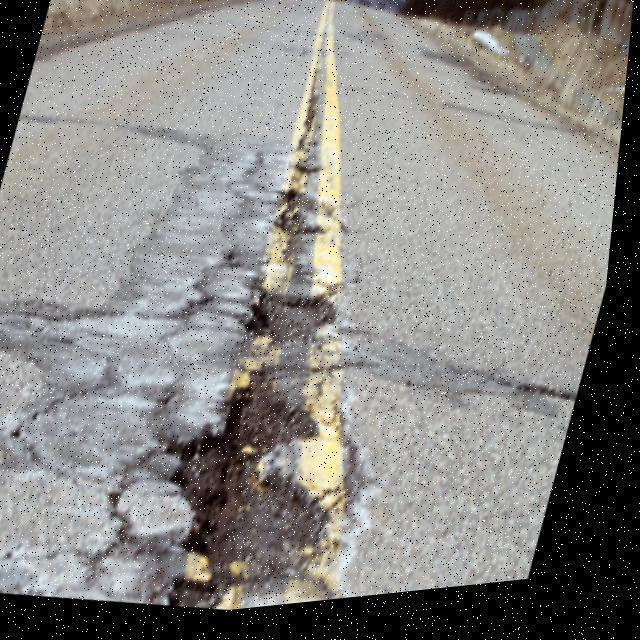Pothole: (161, 362, 337, 608), (245, 284, 343, 348), (274, 185, 331, 239)
